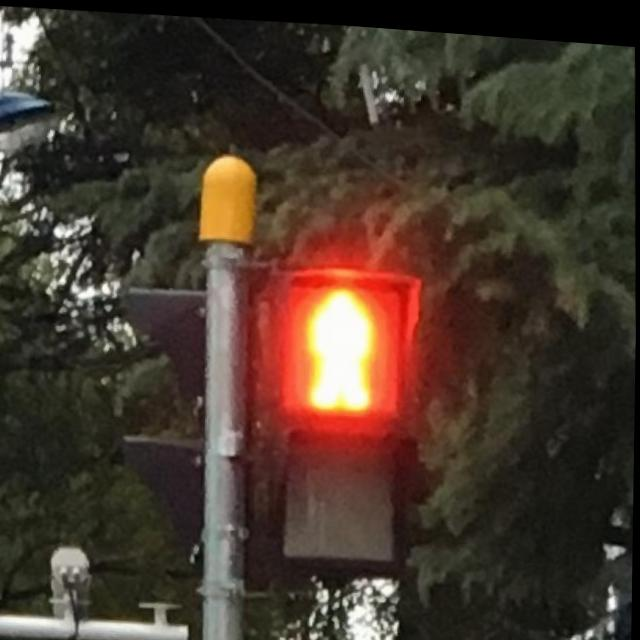red_light: (283, 263, 414, 423)
